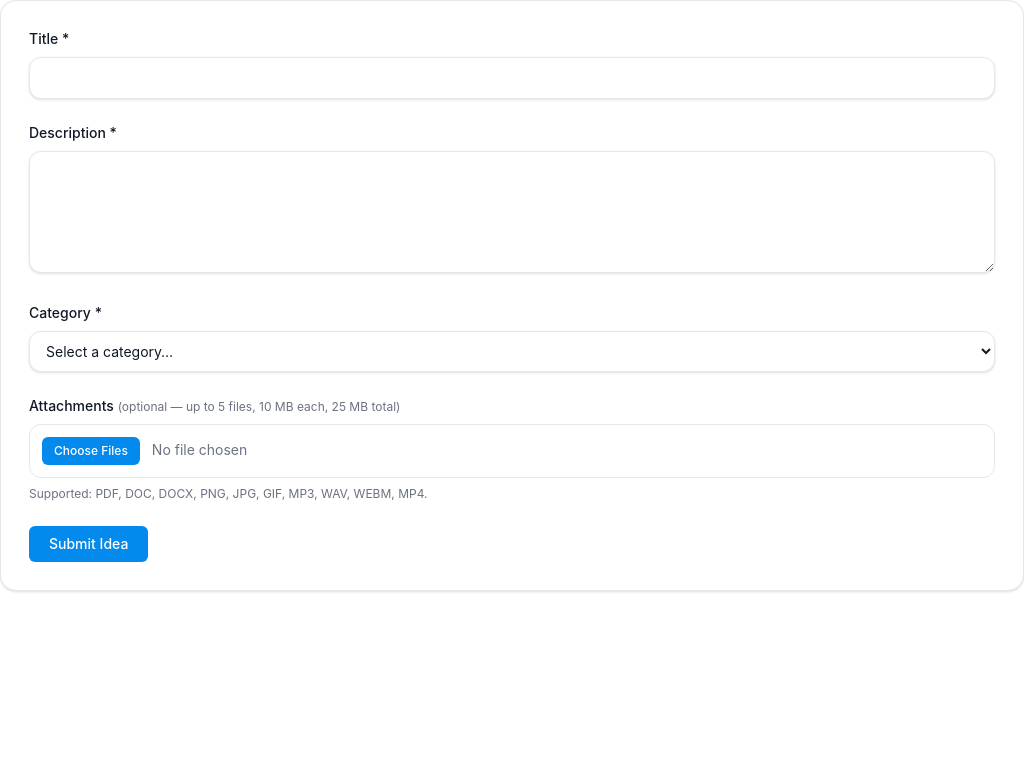
Test: IdeaForm › associates dynamic help text and validation error via aria-describedby
The width and height of the screenshot is (1024, 768).
Type "Accessibility Idea" into the field labelled "Title *" at (512, 78), box left=29, top=57, right=995, bottom=99
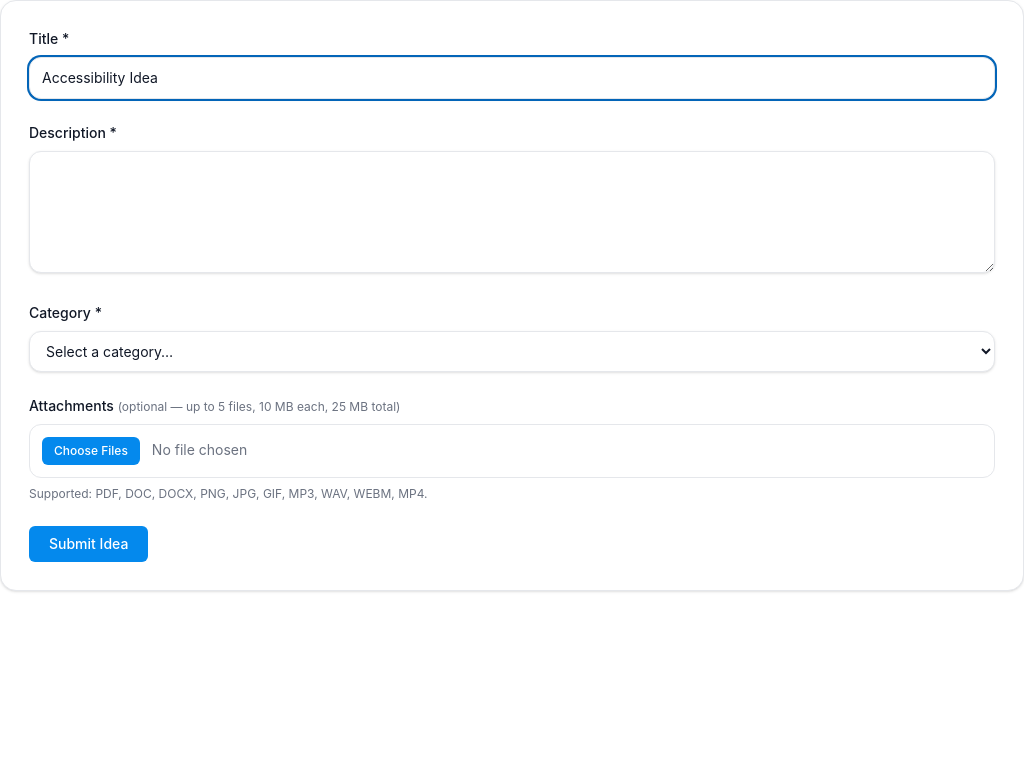
Type "This description is sufficient for validation." into the text box labelled "Description *" at (512, 212), box left=29, top=151, right=995, bottom=273
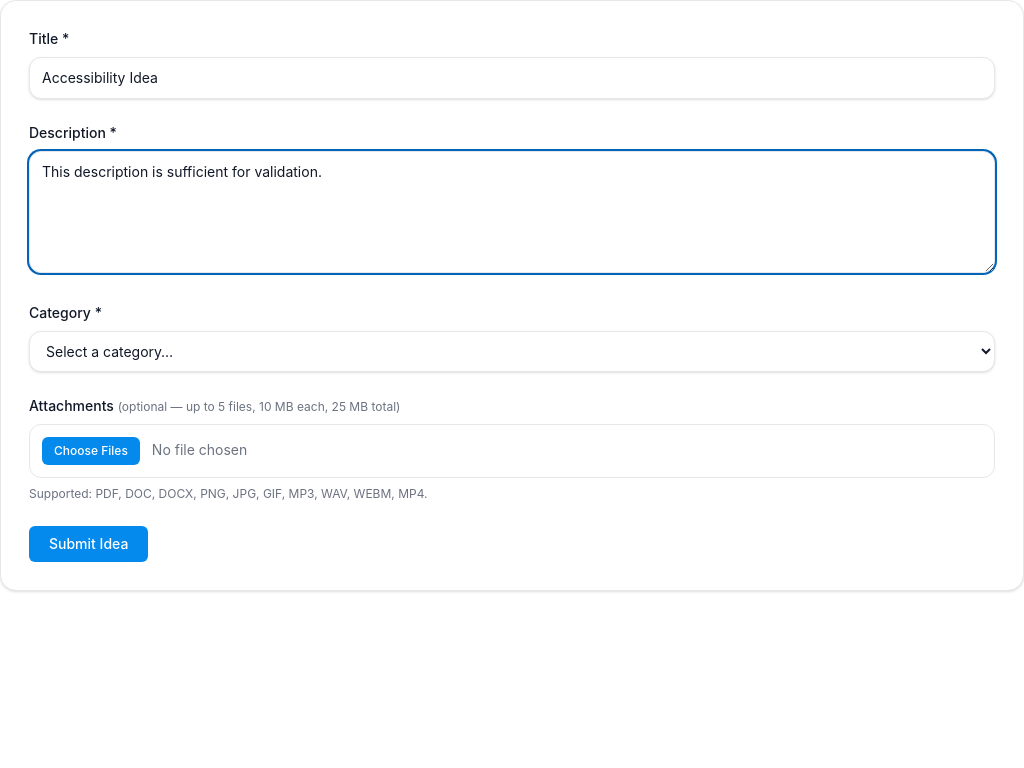
Select "Event Plan" in the dropdown labelled "Category *" at (512, 352), box left=29, top=331, right=995, bottom=372
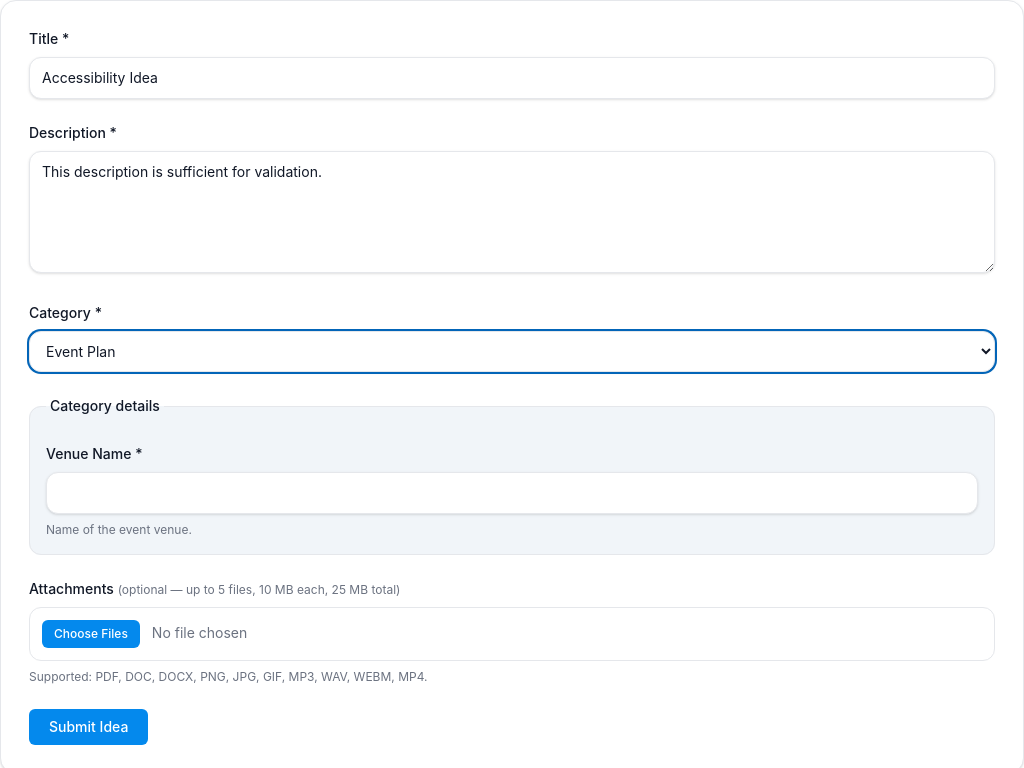
Click the button "Submit Idea" at (89, 727), box left=29, top=709, right=148, bottom=745
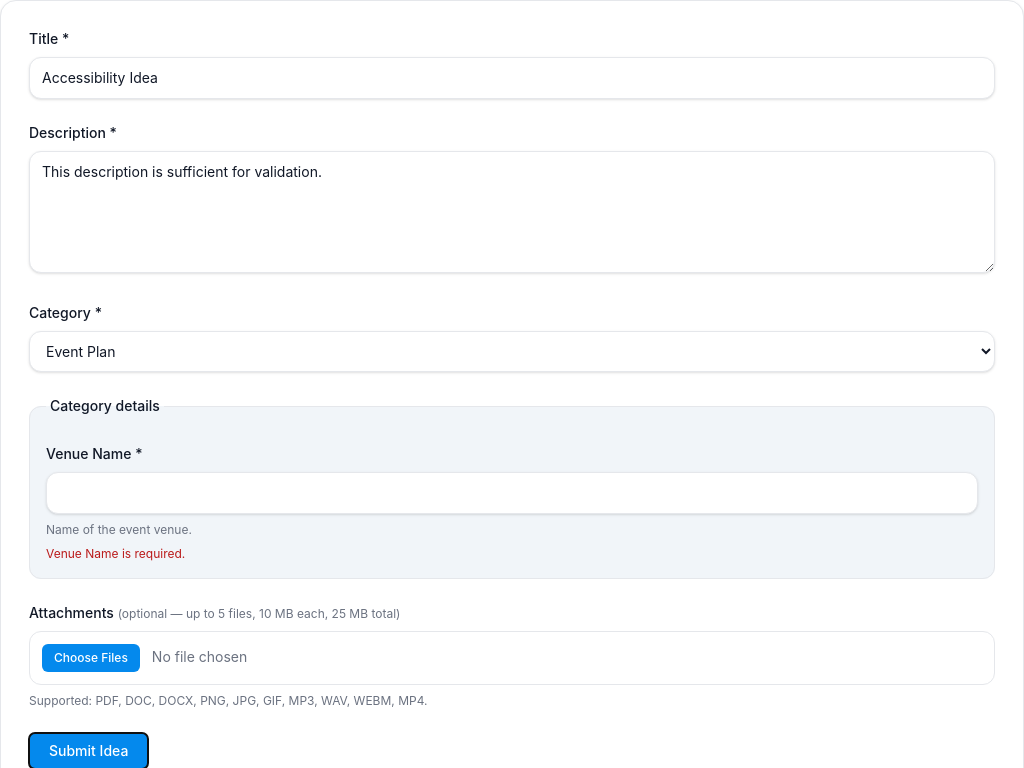
Expected: the text "Venue Name is required." is shown, left=46, top=546, right=185, bottom=561
